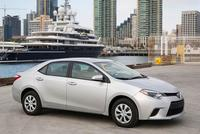car: (11, 58, 185, 126)
